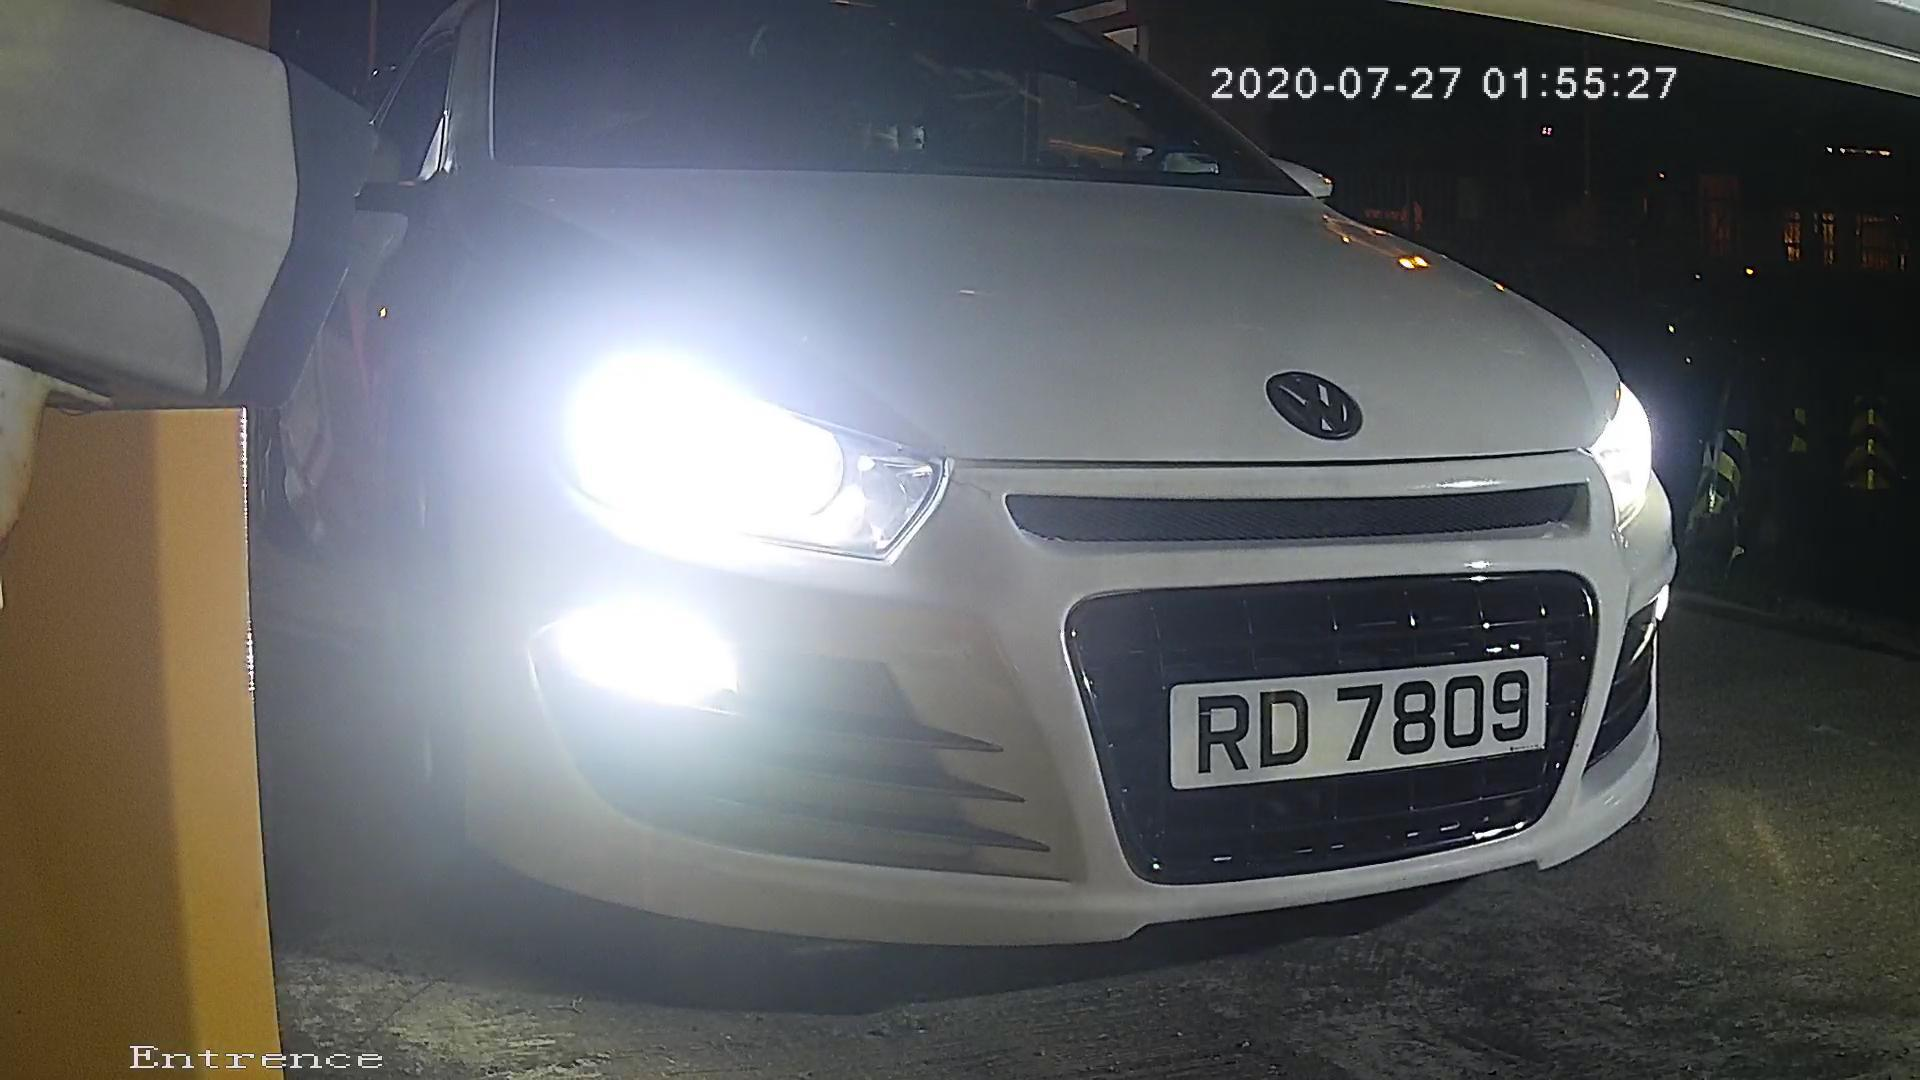Car: (86, 54, 1749, 979)
License Plate: (1149, 651, 1543, 796)
